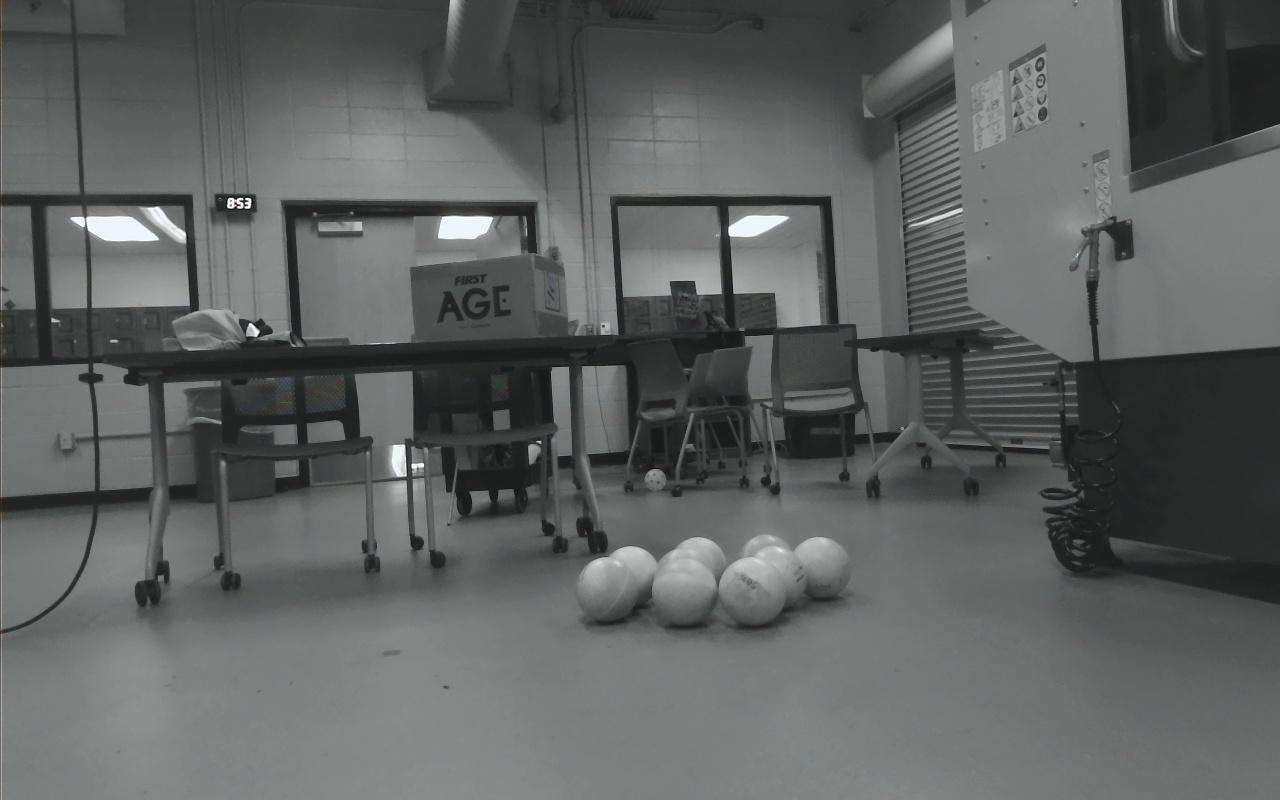Fuel: (718, 557, 787, 626), (652, 558, 717, 626), (575, 557, 640, 623), (749, 545, 808, 609), (791, 537, 851, 599), (655, 547, 717, 604), (739, 533, 795, 590), (608, 546, 658, 609), (673, 537, 728, 594)
